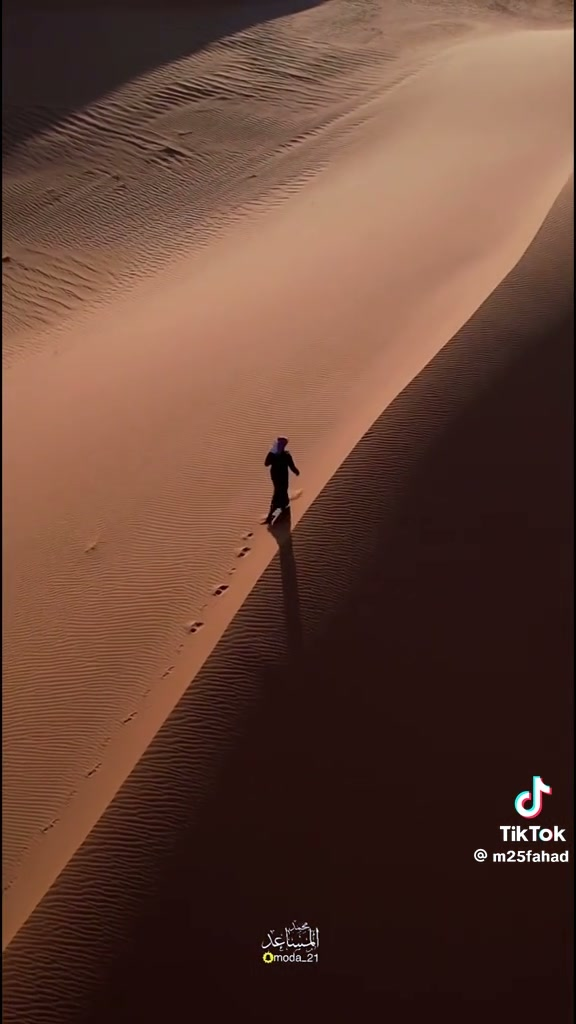human_footprint: (186, 620, 203, 633), (236, 545, 250, 558), (213, 584, 228, 595), (241, 531, 254, 541)
